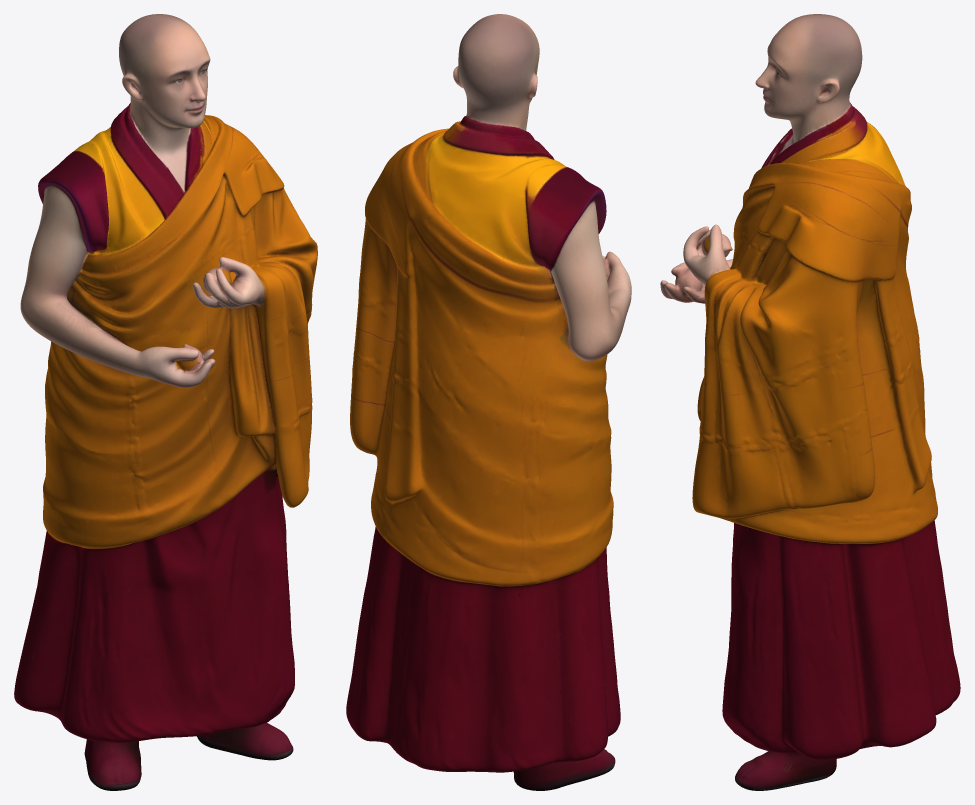
File: monk.glb
The picture shows the model from 3 angles, left to right: view 1: azimuth 30°, elevation 25°; view 2: azimuth 150°, elevation 25°; view 3: azimuth 270°, elevation 25°; orthographic projection. The views are drawn at different scales.
Visible parts, largest first — view 1: mesh_0; view 2: mesh_0; view 3: mesh_0.
Boxes of the visible parts, x1=… form: mesh_0: x1=14, y1=14, x2=317, y2=790; mesh_0: x1=346, y1=14, x2=631, y2=790; mesh_0: x1=660, y1=14, x2=960, y2=790.
Size of the model in its own units: 0.7029 by 1.9 by 0.7091.
1 material, 1 textured.
